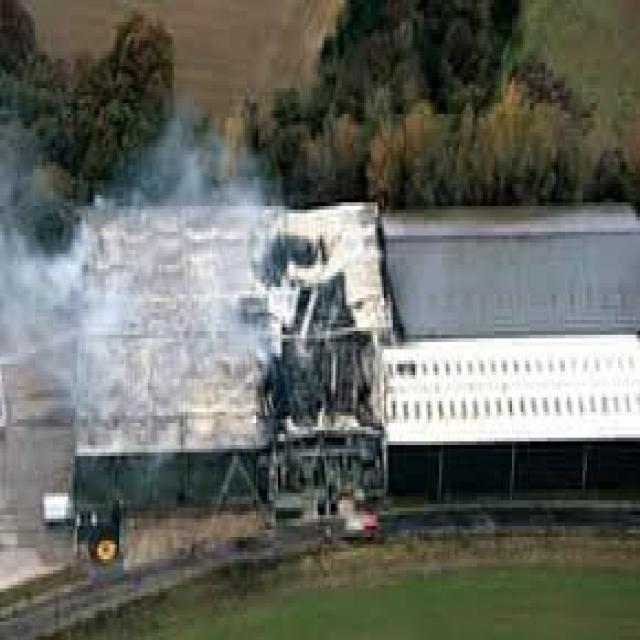Smoke: (0, 104, 295, 487)
